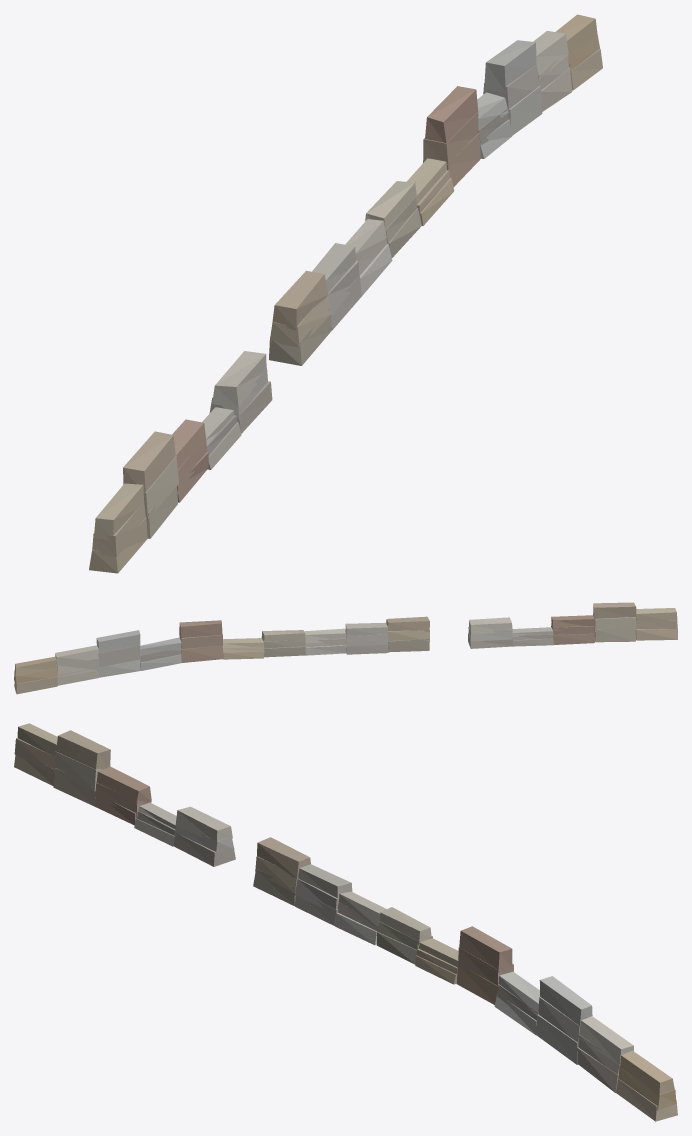
File: farm_0_-1_mid.glb
3 views of the same model, one above another, from view 1: azimuth 30°, elevation 25°; view 2: azimuth 150°, elevation 25°; view 3: azimuth 270°, elevation 25° (orthographic). The views are drawn at different scales.
Parts seen in each view (by area): view 1: geometry_0; view 2: geometry_0; view 3: geometry_0.
Boxes of the visible parts, box(x1,y1,x2,y2) form: geometry_0: box(89, 14, 602, 573); geometry_0: box(14, 602, 677, 694); geometry_0: box(14, 723, 677, 1121).
Size of the model in its own units: 20.16 by 2.33 by 16.43.
